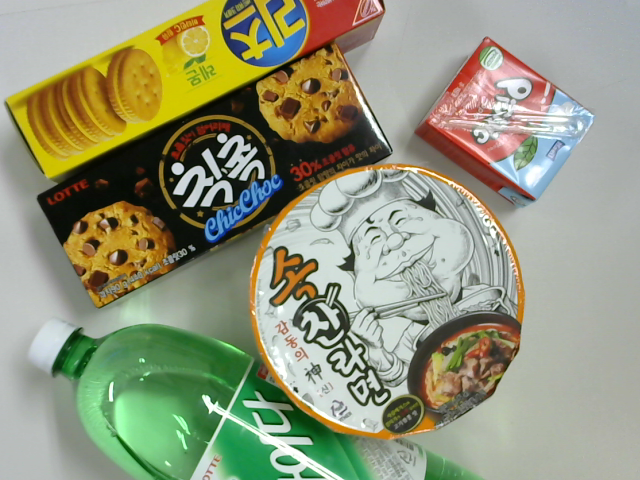Chicchok_Original_2400: (28, 42, 394, 307)
Chilseong_Cider_1.5L: (18, 310, 511, 480)
Hejangchan: (237, 156, 541, 431)
Picnic_Apple: (418, 39, 601, 205)
Ritz_Remon_96g: (1, 1, 389, 183)
